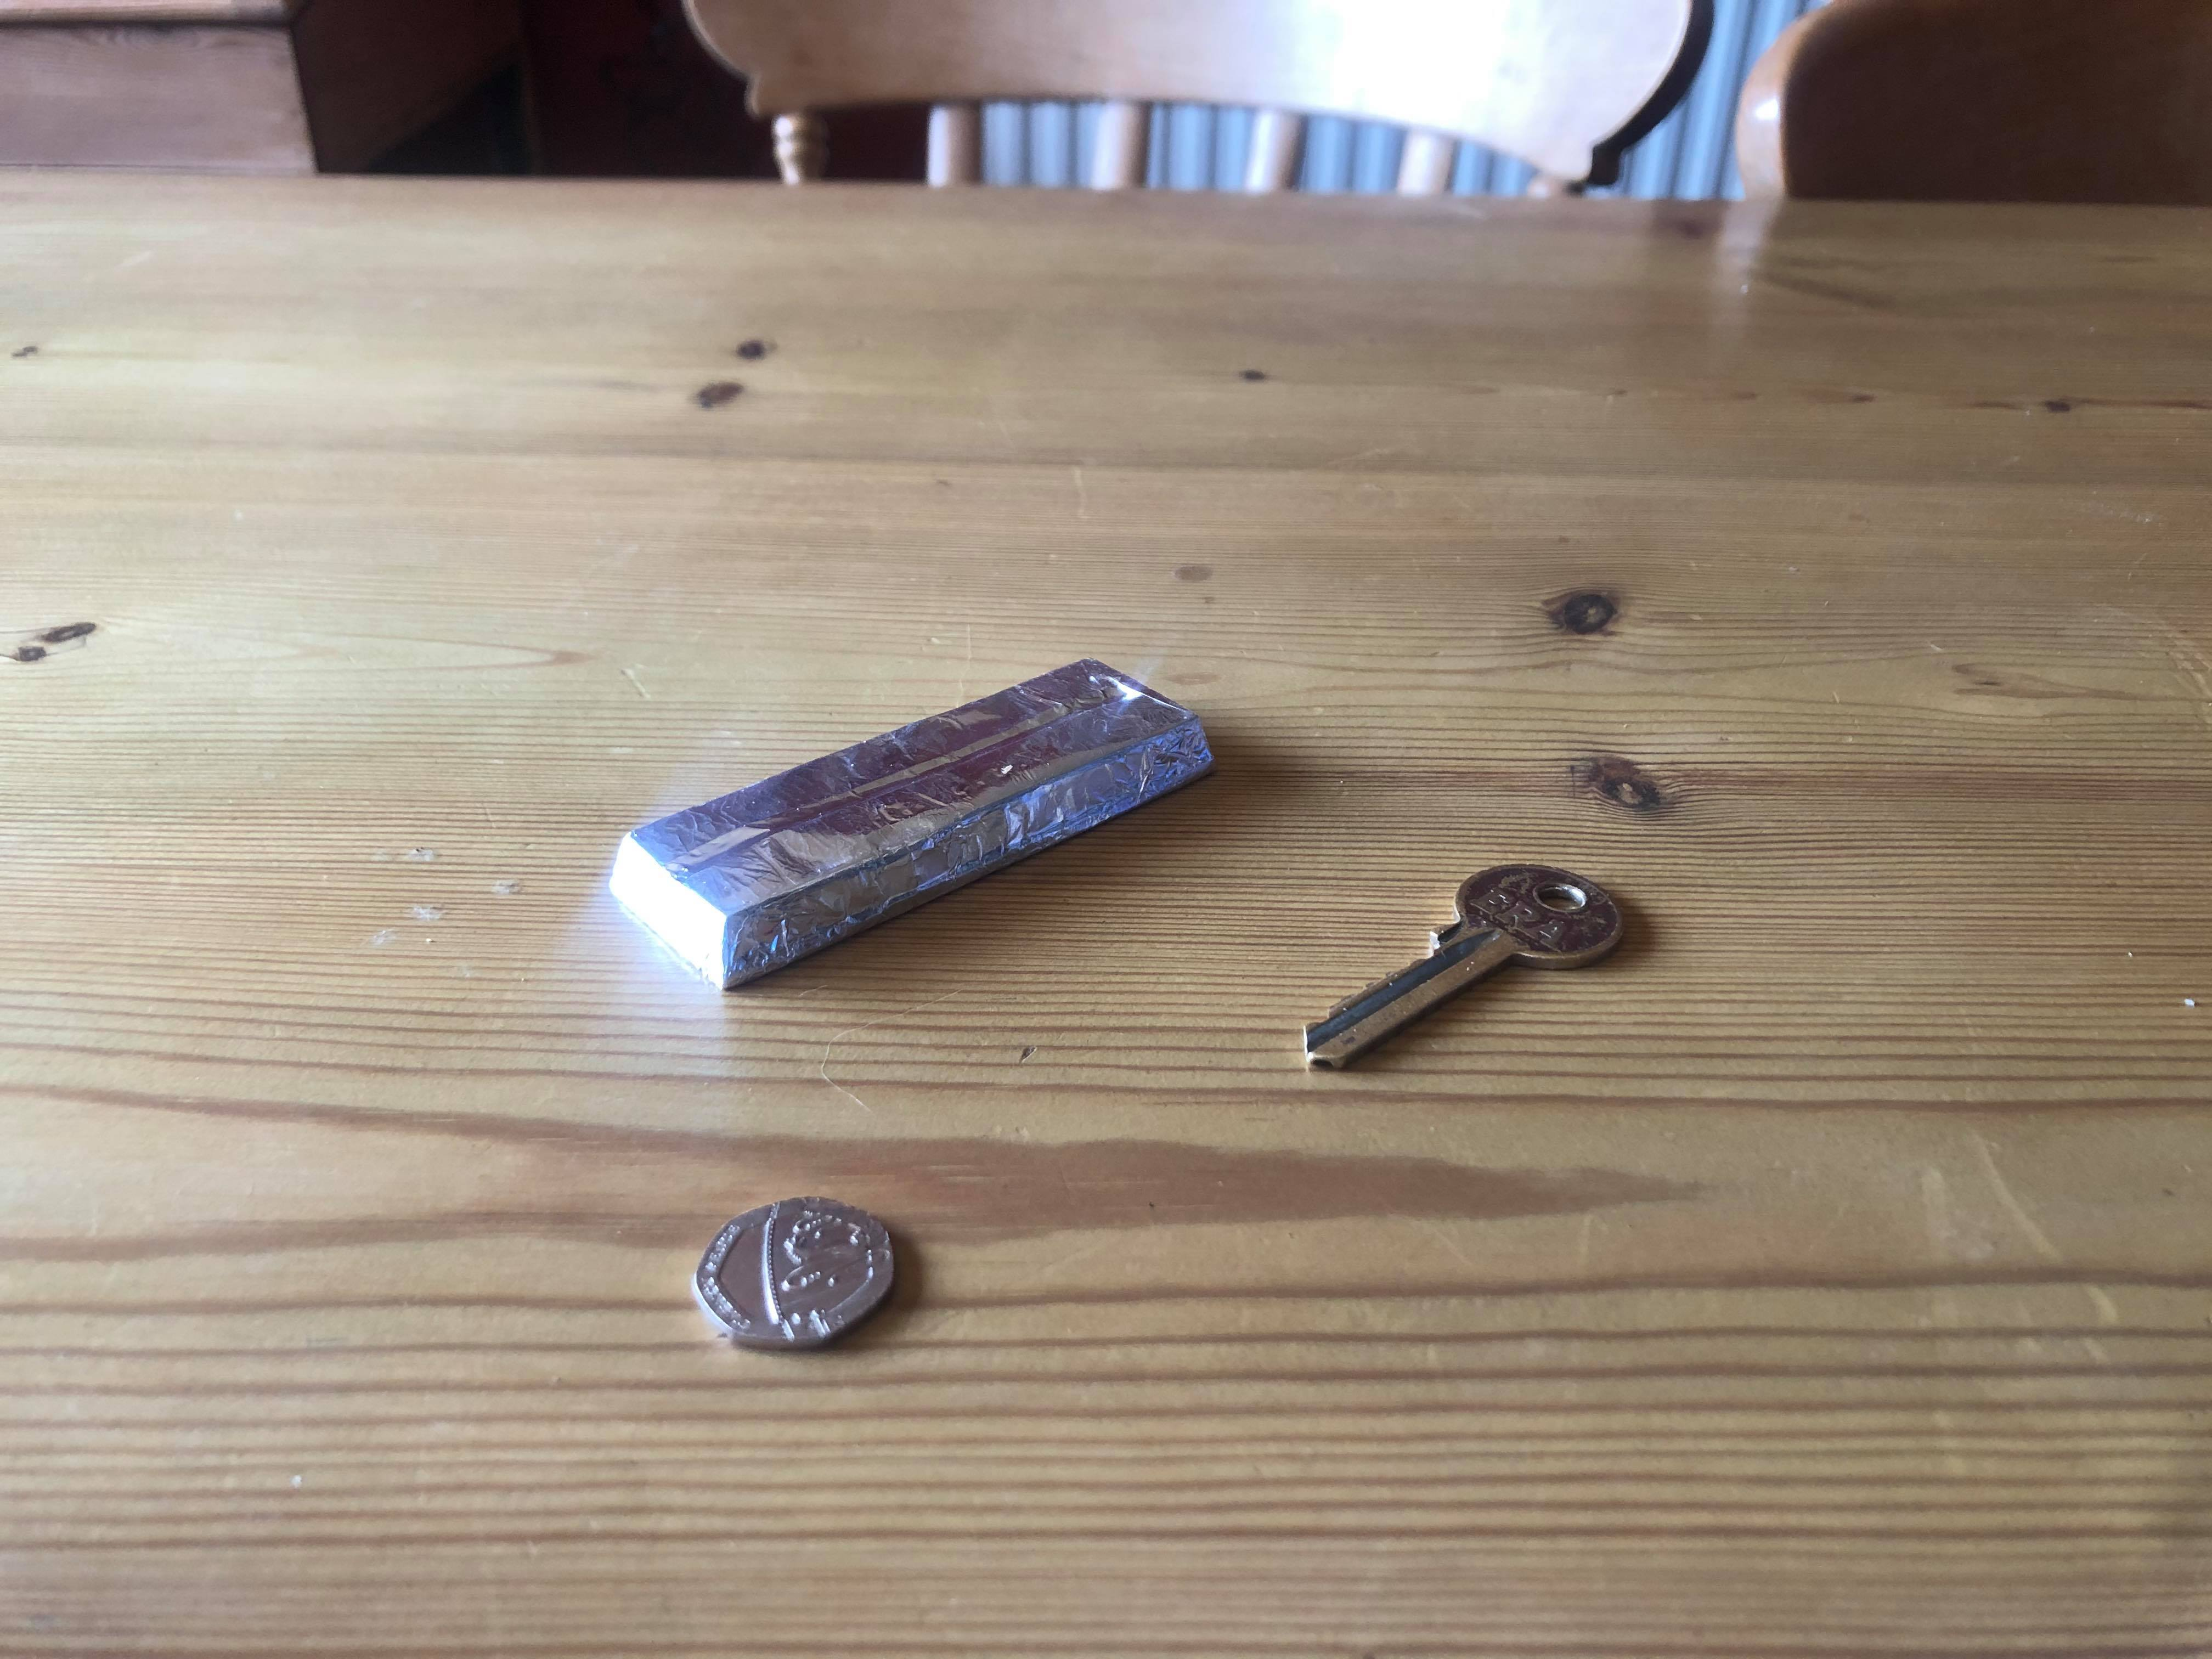Coin: (676, 1188, 902, 1351)
Foil: (601, 645, 1221, 1002)
Key: (1285, 852, 1632, 1082)
